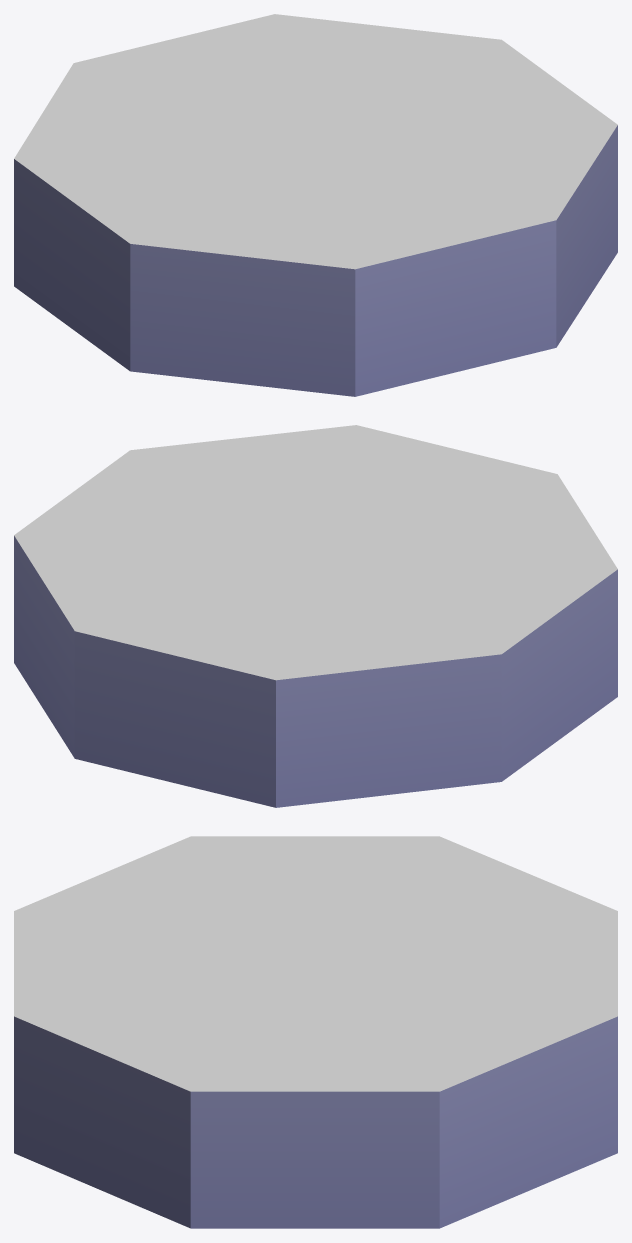
File: shape-octagon.glb
3 renders of one model, top to bottom at view 1: azimuth 30°, elevation 25°; view 2: azimuth 150°, elevation 25°; view 3: azimuth 270°, elevation 25°, orthographic. The views are drawn at different scales.
Parts seen in each view (by area): view 1: shape-octagon; view 2: shape-octagon; view 3: shape-octagon.
Boxes of the visible parts, bbox=[...] form: shape-octagon: bbox=[14, 14, 617, 396]; shape-octagon: bbox=[14, 425, 617, 807]; shape-octagon: bbox=[14, 836, 617, 1228].
Size of the model in its own units: 0.25 by 0.0625 by 0.25.
